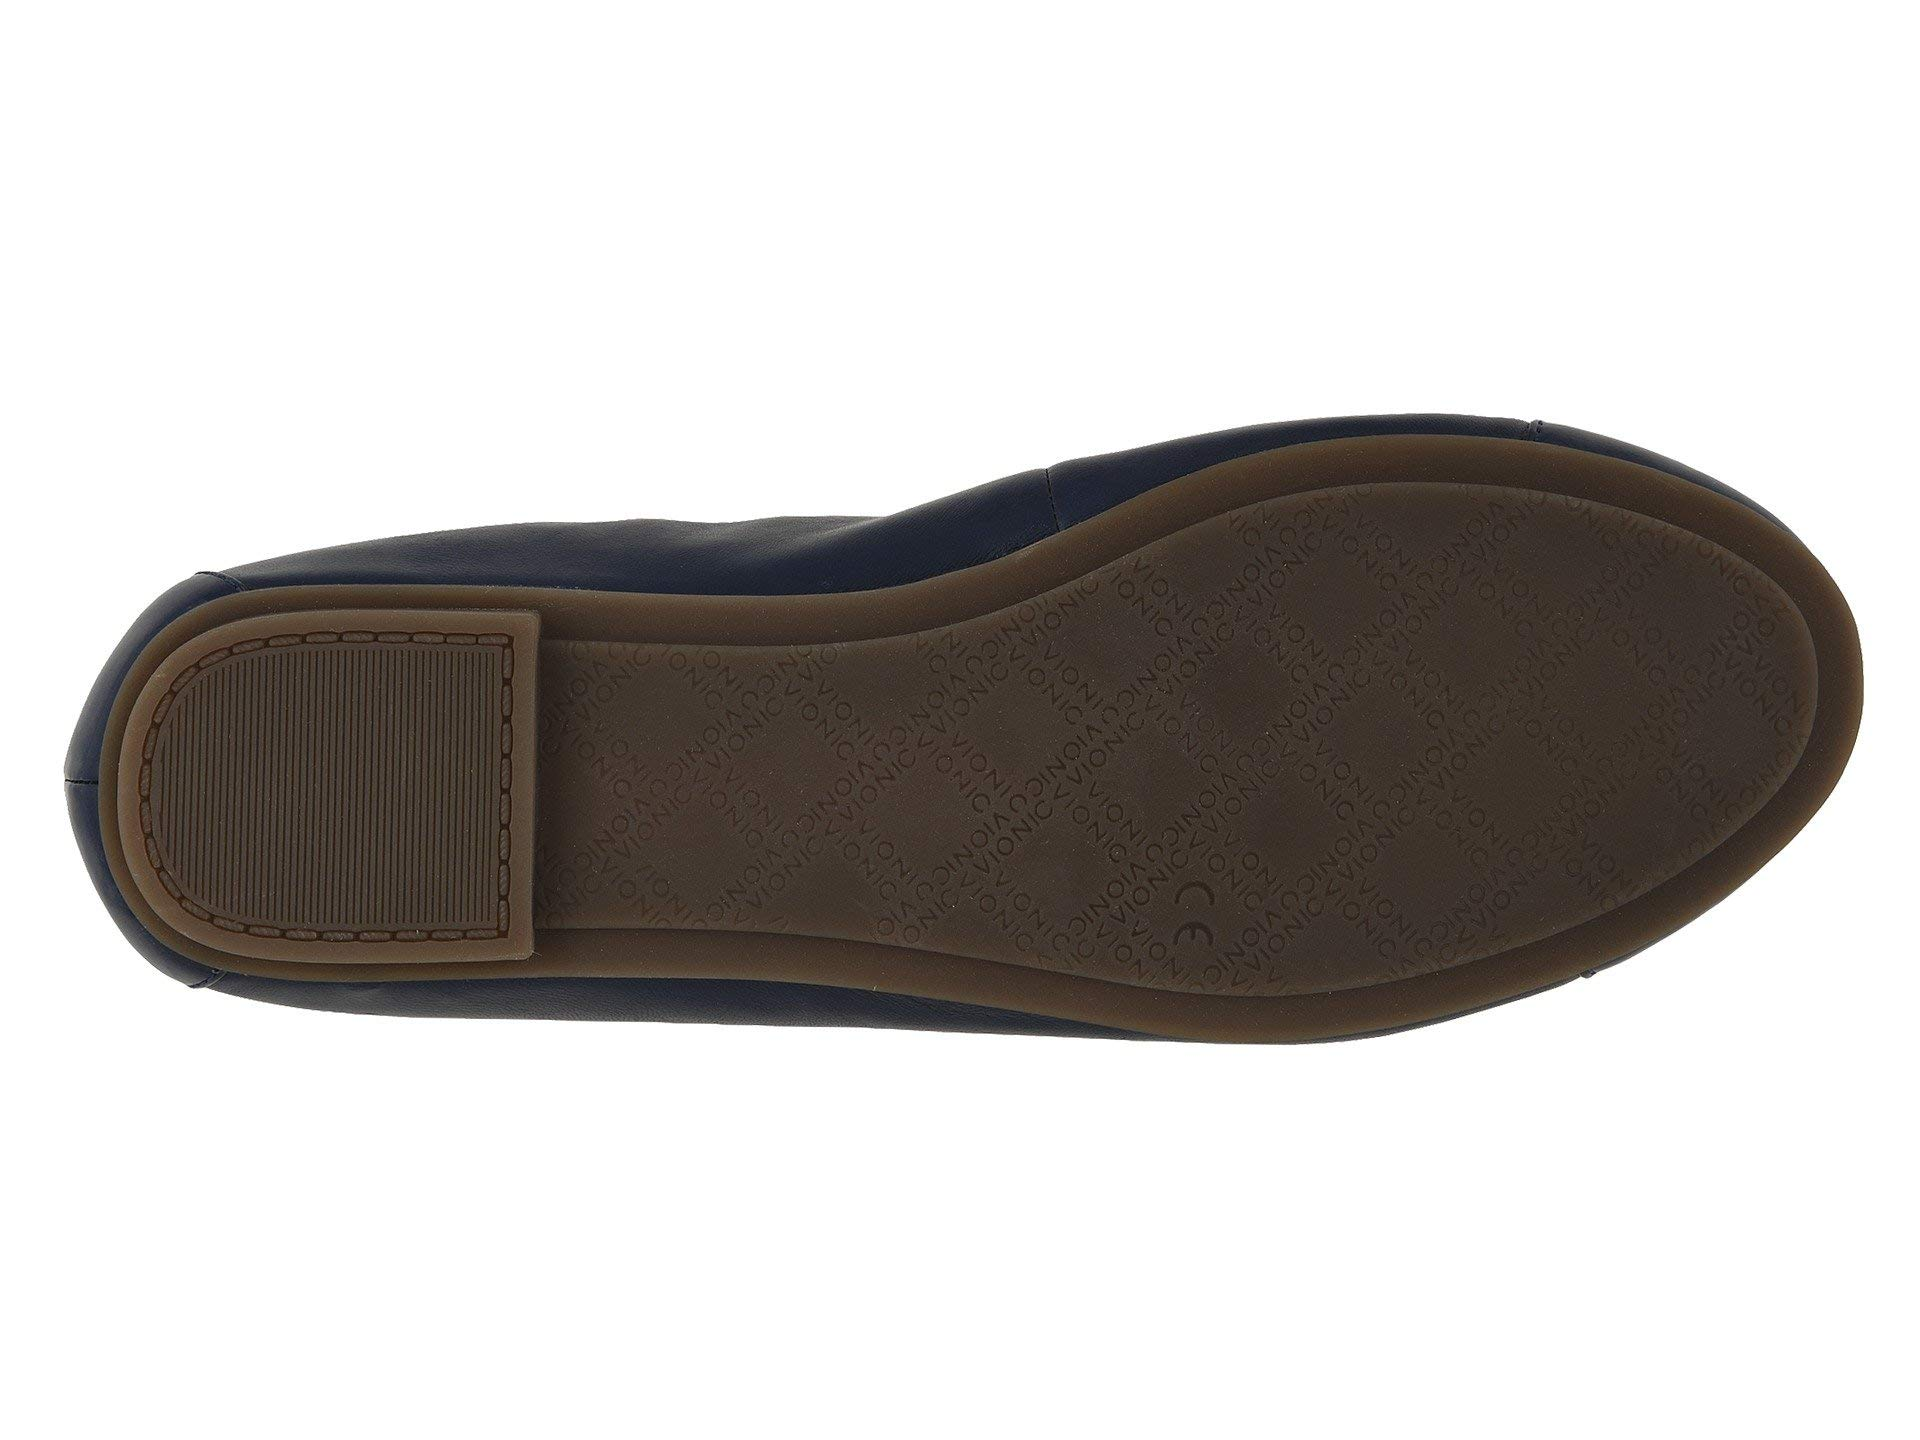line: (171, 631, 470, 926)
quad: (881, 587, 1534, 947)
text: (881, 587, 1534, 947)
